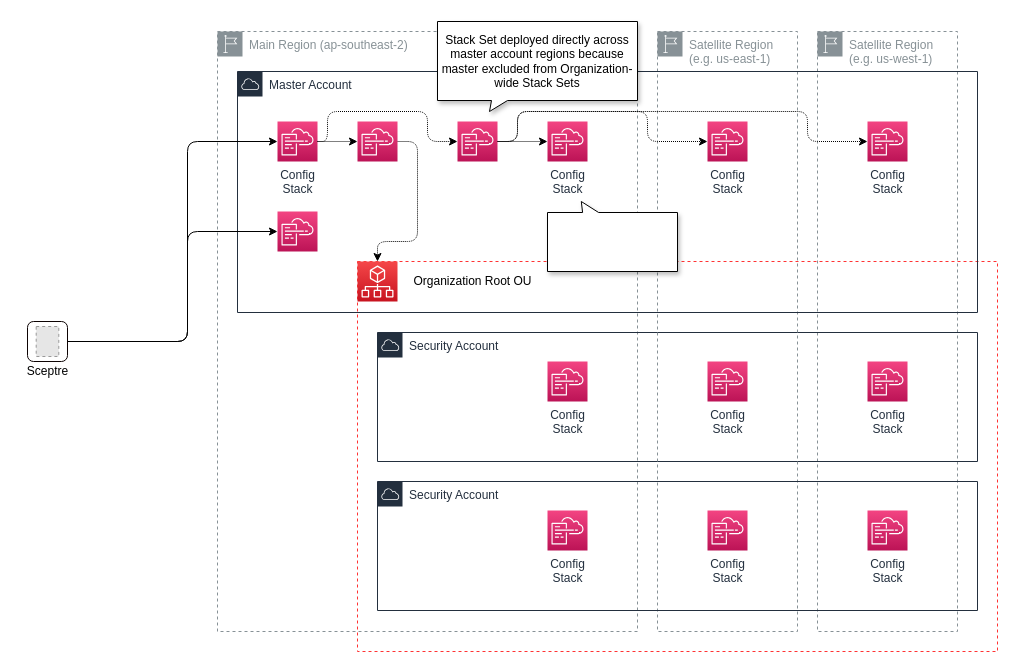
The diagram is 1015 pixels wide and 669 high, and some of its shapes have lost their labels. Grey dashed boxes stand in for pictures. The centre of each missing label's shape, as x and y in pixels:
"Config Aggregator Stack" belongs at (x=297, y=231).
"Config Organization Stack Set" belongs at (x=377, y=141).
"Config Stack Set" belongs at (x=477, y=141).
"See other Config diagram for details of stack resources" belongs at (x=613, y=237).
